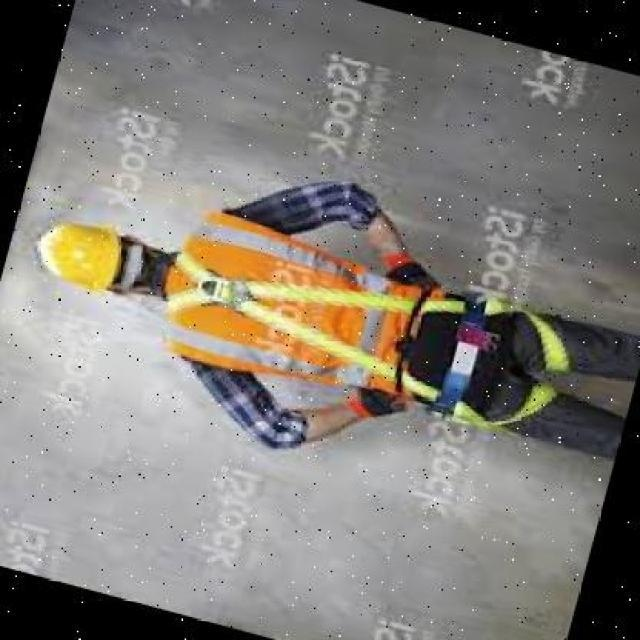Arnes_seguridad: (144, 208, 585, 448)
